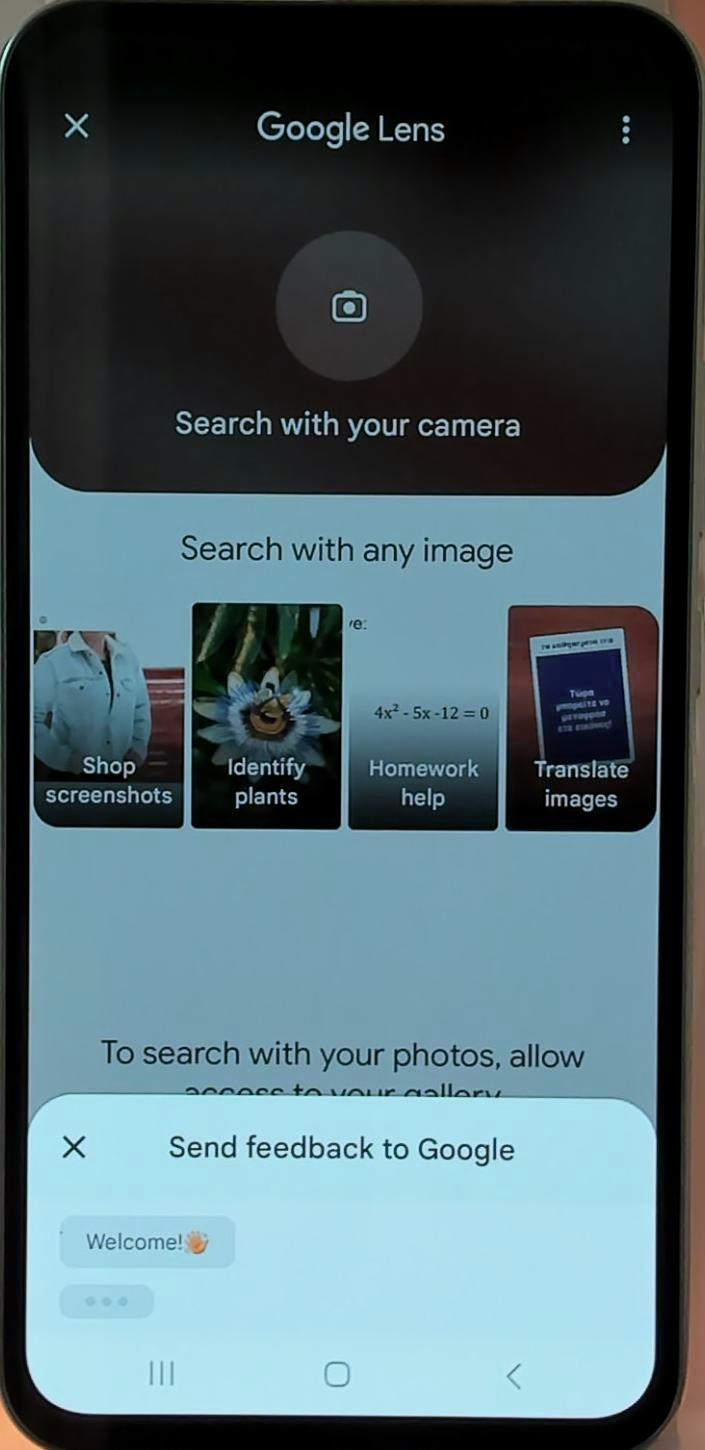CommunBotton: (144, 1120, 550, 1186), (44, 1202, 256, 1286), (132, 1336, 210, 1404), (486, 1342, 544, 1404), (308, 1338, 364, 1398), (46, 1120, 100, 1178)
menu: (601, 84, 646, 166)
